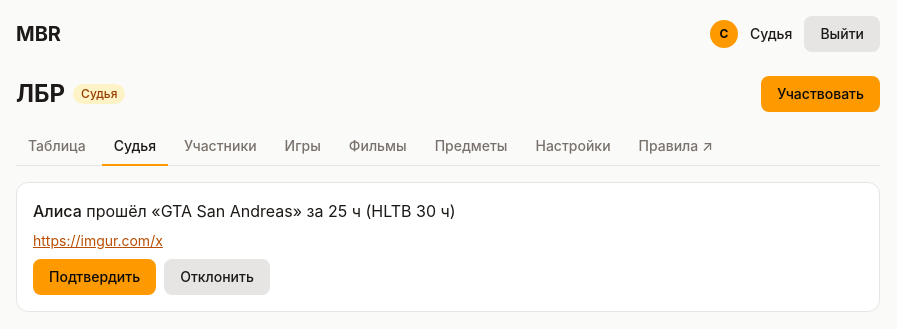
Test: judge queue › confirms a finished game
The width and height of the screenshot is (897, 329).
Check: the link "https://imgur.com/x" is shown, box [33,232,163,249]
What coordinates should you click on to do the following:
click the button "Подтвердить"
I would click on:
 (95, 277)
Its box is [33,259,156,295].
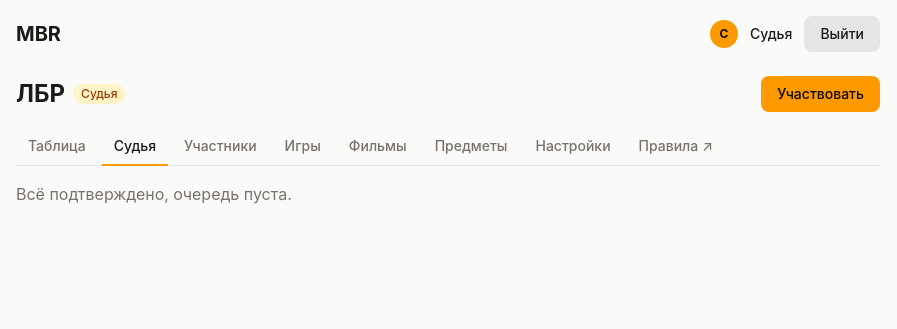
Check: the text "Всё подтверждено, очередь пуста." is shown, box [16,184,292,204]
